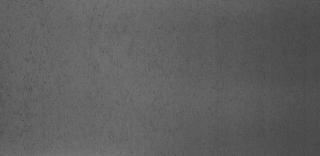silk spot: (84, 12, 234, 98)
